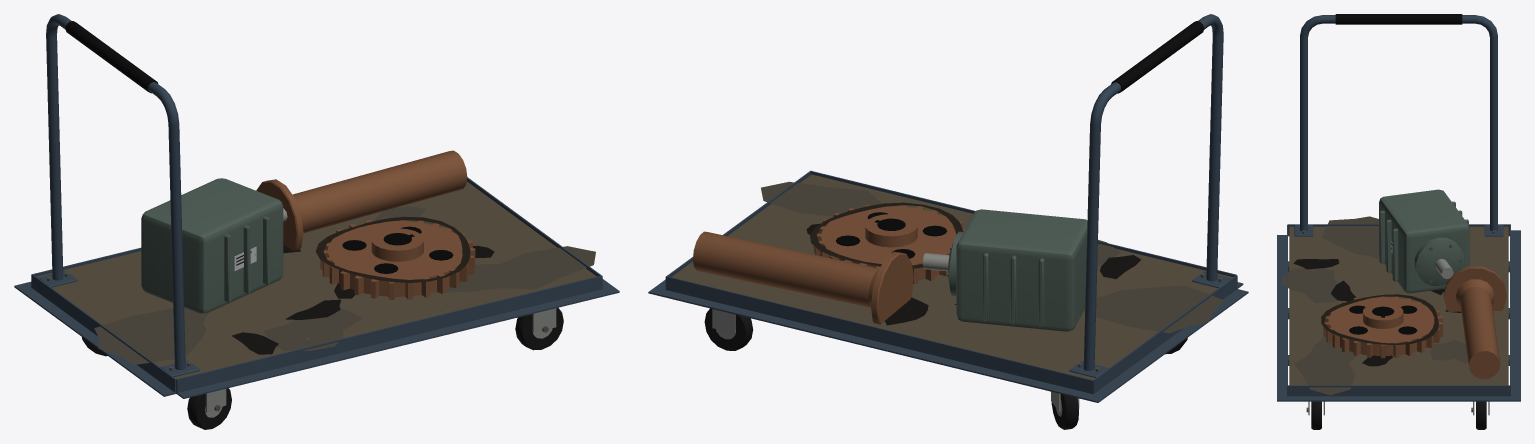
The model's file is trolley_flatbed.glb.
The picture shows the model from 3 angles, left to right: view 1: azimuth 30°, elevation 25°; view 2: azimuth 150°, elevation 25°; view 3: azimuth 270°, elevation 25°; orthographic projection. The views are drawn at different scales.
Visible parts, largest first — view 1: plattformwagen1, plattformwagen0, plattformwagen7, plattformwagen10, plattformwagen14, plattformwagen4, plattformwagen13, plattformwagen9, plattformwagen6, plattformwagen8, plattformwagen3; view 2: plattformwagen0, plattformwagen1, plattformwagen7, plattformwagen10, plattformwagen14, plattformwagen4, plattformwagen6, plattformwagen13, plattformwagen9, plattformwagen8, plattformwagen3, plattformwagen5; view 3: plattformwagen1, plattformwagen0, plattformwagen7, plattformwagen10, plattformwagen14, plattformwagen6, plattformwagen13, plattformwagen9, plattformwagen8, plattformwagen4, plattformwagen5.
Part boxes in pixels (bbox=[...]): plattformwagen1: bbox=[37, 181, 596, 378]; plattformwagen0: bbox=[14, 14, 619, 398]; plattformwagen7: bbox=[256, 150, 475, 299]; plattformwagen10: bbox=[141, 178, 283, 313]; plattformwagen14: bbox=[94, 206, 595, 364]; plattformwagen4: bbox=[82, 307, 563, 429]; plattformwagen13: bbox=[231, 244, 494, 354]; plattformwagen9: bbox=[315, 216, 470, 282]; plattformwagen6: bbox=[65, 21, 158, 93]; plattformwagen8: bbox=[342, 226, 453, 273]; plattformwagen3: bbox=[205, 308, 556, 412]; plattformwagen0: bbox=[648, 14, 1248, 402]; plattformwagen1: bbox=[671, 174, 1232, 379]; plattformwagen7: bbox=[693, 205, 964, 324]; plattformwagen10: bbox=[948, 209, 1087, 331]; plattformwagen14: bbox=[761, 181, 1223, 333]; plattformwagen4: bbox=[704, 308, 1187, 429]; plattformwagen6: bbox=[1111, 21, 1204, 93]; plattformwagen13: bbox=[806, 223, 1140, 325]; plattformwagen9: bbox=[810, 202, 963, 268]; plattformwagen8: bbox=[836, 212, 946, 258]; plattformwagen3: bbox=[712, 309, 1079, 411]; plattformwagen5: bbox=[716, 253, 1062, 416]; plattformwagen1: bbox=[1289, 226, 1508, 385]; plattformwagen0: bbox=[1277, 15, 1520, 401]; plattformwagen7: bbox=[1323, 266, 1506, 379]; plattformwagen10: bbox=[1379, 189, 1469, 293]; plattformwagen14: bbox=[1281, 216, 1468, 395]; plattformwagen6: bbox=[1335, 14, 1462, 24]; plattformwagen13: bbox=[1293, 259, 1461, 366]; plattformwagen9: bbox=[1321, 294, 1438, 344]; plattformwagen8: bbox=[1349, 305, 1417, 334]; plattformwagen4: bbox=[1311, 401, 1486, 429]; plattformwagen5: bbox=[1435, 259, 1453, 278].
Bounding box in the file's own units: 1.34 × 0.9462 × 0.77.
